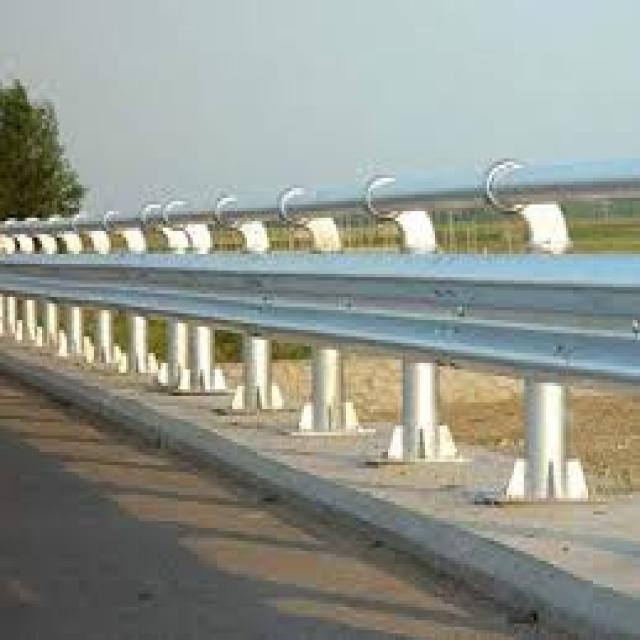Guard rail: (0, 150, 640, 534)
